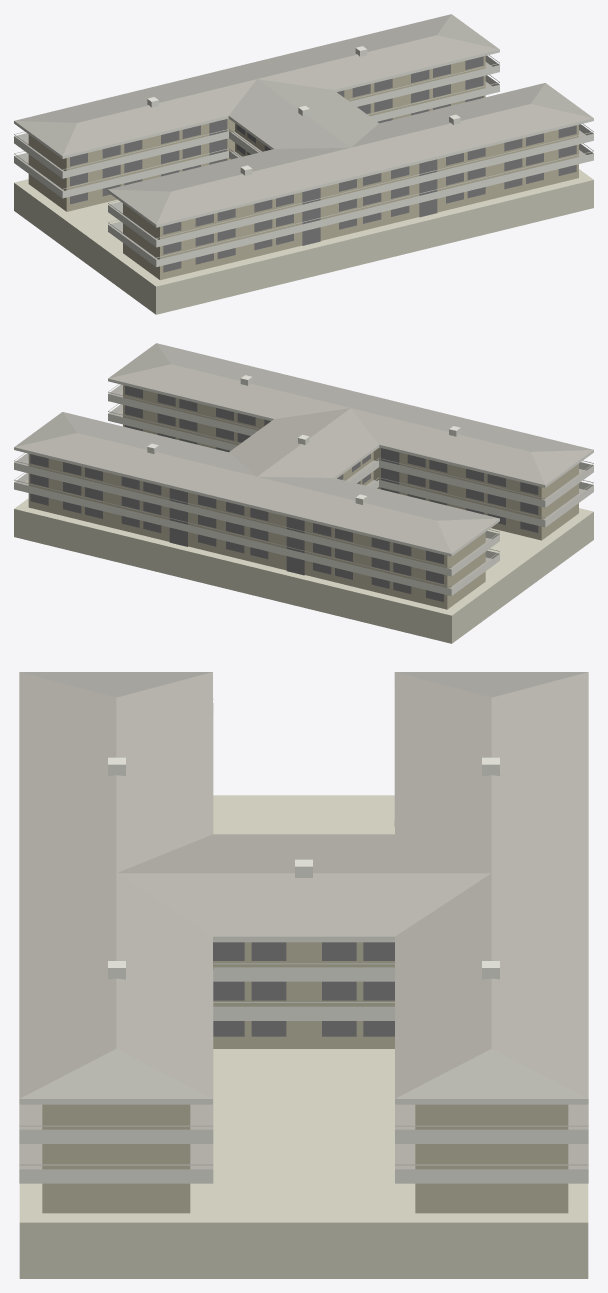
The model's file is h-shaped-appt-building.glb.
3 renders of one model, top to bottom at view 1: azimuth 30°, elevation 25°; view 2: azimuth 150°, elevation 25°; view 3: azimuth 270°, elevation 25°, orthographic. The views are drawn at different scales.
Parts seen in each view (by area): view 1: mesh.005, box, mesh.003, mesh.004, mesh.002, rect.016, rect.017, rect.015, rect.011, rect.010, mesh, mesh.001 (+2 smaller); view 2: mesh.005, box, mesh.003, mesh.004, mesh.002, rect.007, rect.006, rect.008, rect.012, rect.013, mesh, mesh.001 (+2 smaller); view 3: mesh.005, box, mesh.003, mesh.004, mesh.002, rect.001, rect, rect.002, box.001, mesh, mesh.001.
Boxes of the visible parts, <box> form: mesh.005: <box>14,14,593,227</box>; box: <box>14,169,593,314</box>; mesh.003: <box>28,56,578,280</box>; mesh.004: <box>14,55,593,247</box>; mesh.002: <box>14,75,593,266</box>; rect.016: <box>163,145,576,254</box>; rect.017: <box>163,125,576,234</box>; rect.015: <box>163,165,576,272</box>; rect.011: <box>70,56,483,166</box>; rect.010: <box>70,76,483,186</box>; mesh: <box>14,55,593,238</box>; mesh.001: <box>14,74,593,257</box>; mesh.005: <box>14,343,593,556</box>; box: <box>14,498,593,643</box>; mesh.003: <box>28,385,578,609</box>; mesh.004: <box>14,384,593,576</box>; mesh.002: <box>14,404,593,595</box>; rect.007: <box>30,474,443,583</box>; rect.006: <box>30,454,443,564</box>; rect.008: <box>30,493,443,601</box>; rect.012: <box>125,385,538,494</box>; rect.013: <box>125,405,538,514</box>; mesh: <box>14,384,593,567</box>; mesh.001: <box>14,403,593,586</box>; mesh.005: <box>19,672,588,1104</box>; box: <box>19,795,588,1278</box>; mesh.003: <box>42,942,568,1213</box>; mesh.004: <box>19,703,588,1143</box>; mesh.002: <box>19,1006,588,1183</box>; rect.001: <box>213,981,394,1000</box>; rect: <box>213,942,394,960</box>; rect.002: <box>213,1021,394,1036</box>; box.001: <box>108,757,499,979</box>; mesh: <box>19,699,588,1126</box>; mesh.001: <box>19,1002,588,1165</box>.
Bounding box in the file's own units: 80.06 × 17.68 × 45.06.
